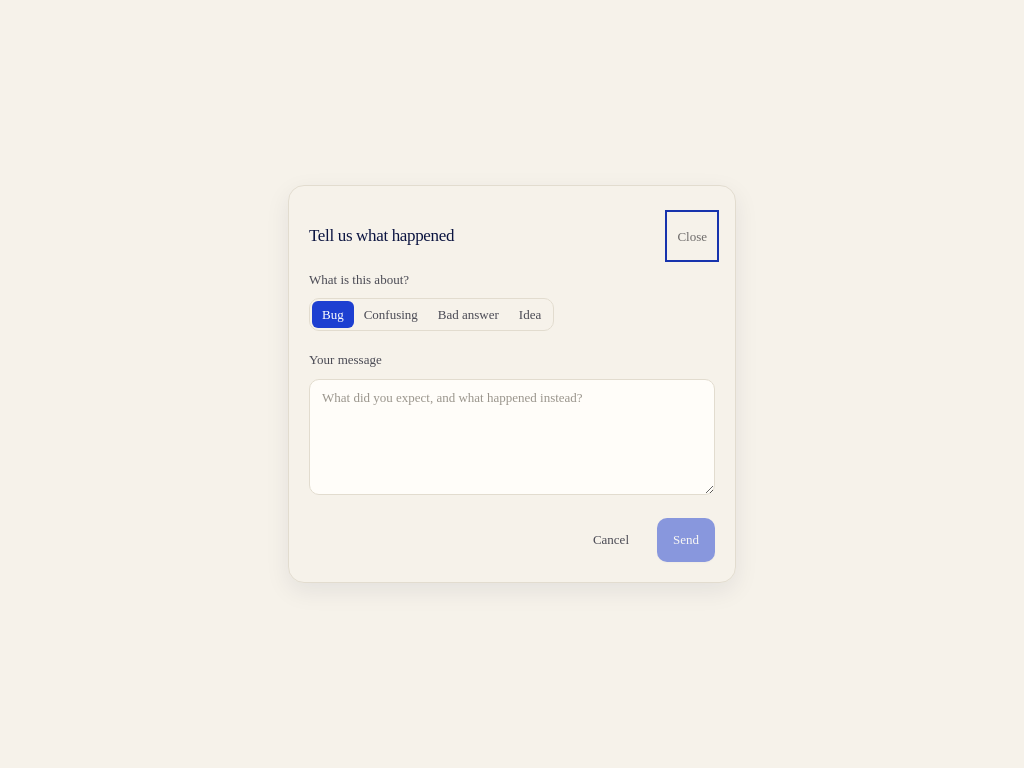
Test: FeedbackDialog › keeps the form and says why when sending fails
Type "again" into the text box labelled "Your message". click: (512, 437)
box: 309,379 -> 715,495
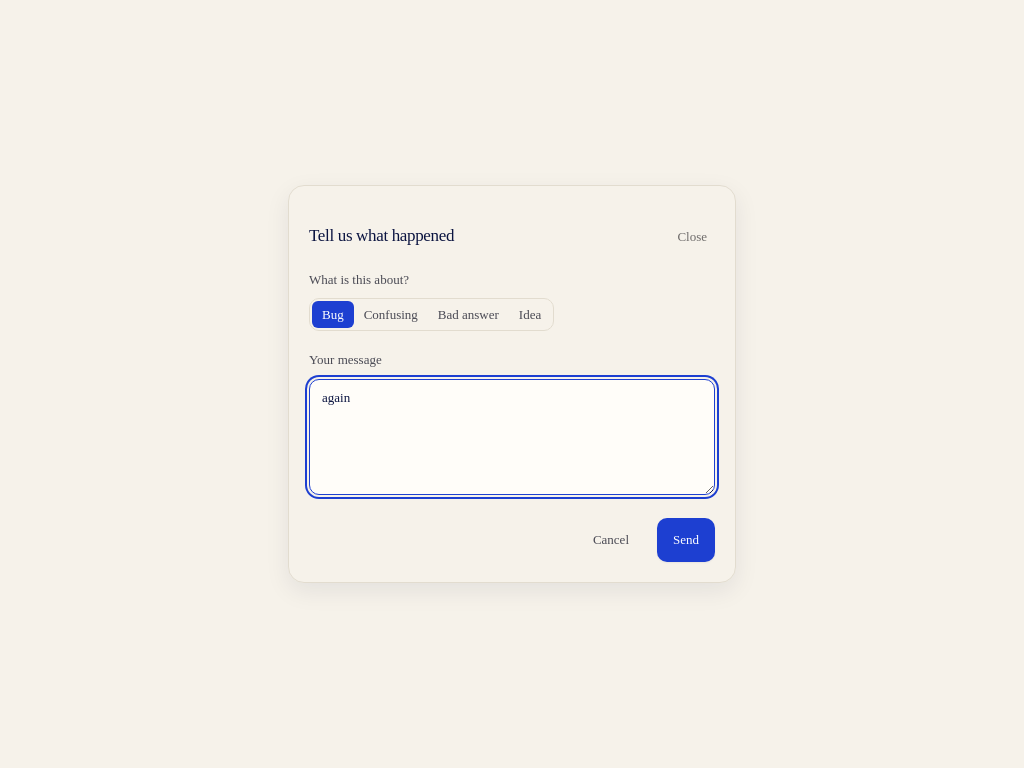
Click the button "Send". click: click(686, 540)
box: 657,518 -> 715,562
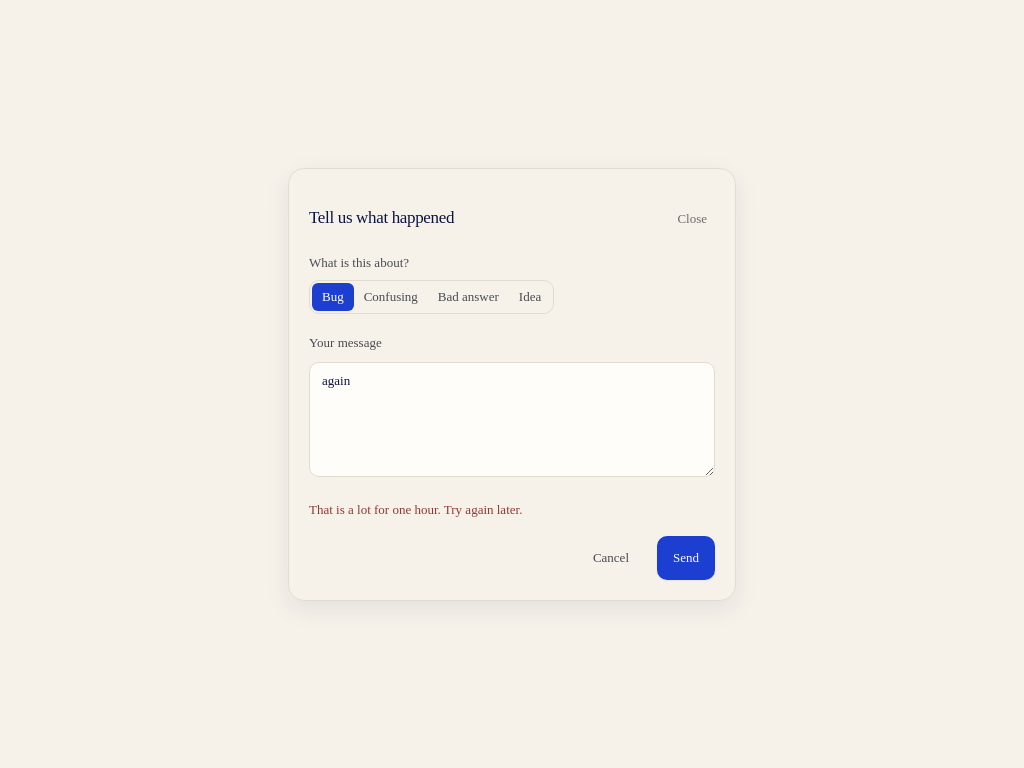
Result: the message shows "a lot for one hour" at 309,502 -> 522,517
